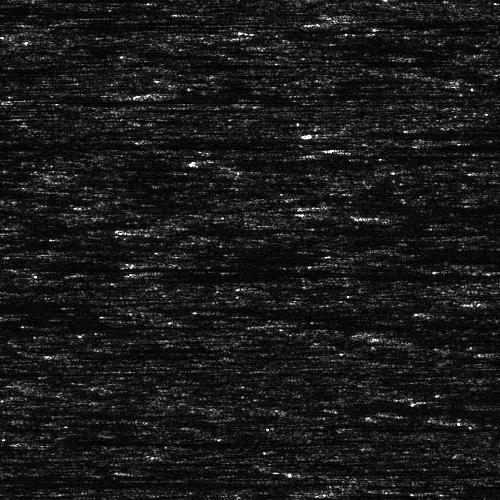object: (83, 267, 218, 278), (109, 224, 202, 233), (297, 124, 350, 137), (325, 142, 356, 155), (151, 89, 182, 98), (10, 438, 63, 443), (0, 243, 19, 248), (271, 469, 302, 472)
shadow: (151, 267, 471, 278), (167, 89, 500, 98), (0, 290, 121, 311), (323, 124, 500, 137), (341, 142, 423, 155), (0, 479, 210, 484), (37, 438, 198, 443), (156, 224, 235, 233), (0, 243, 140, 248), (0, 61, 60, 70), (287, 469, 372, 472)
